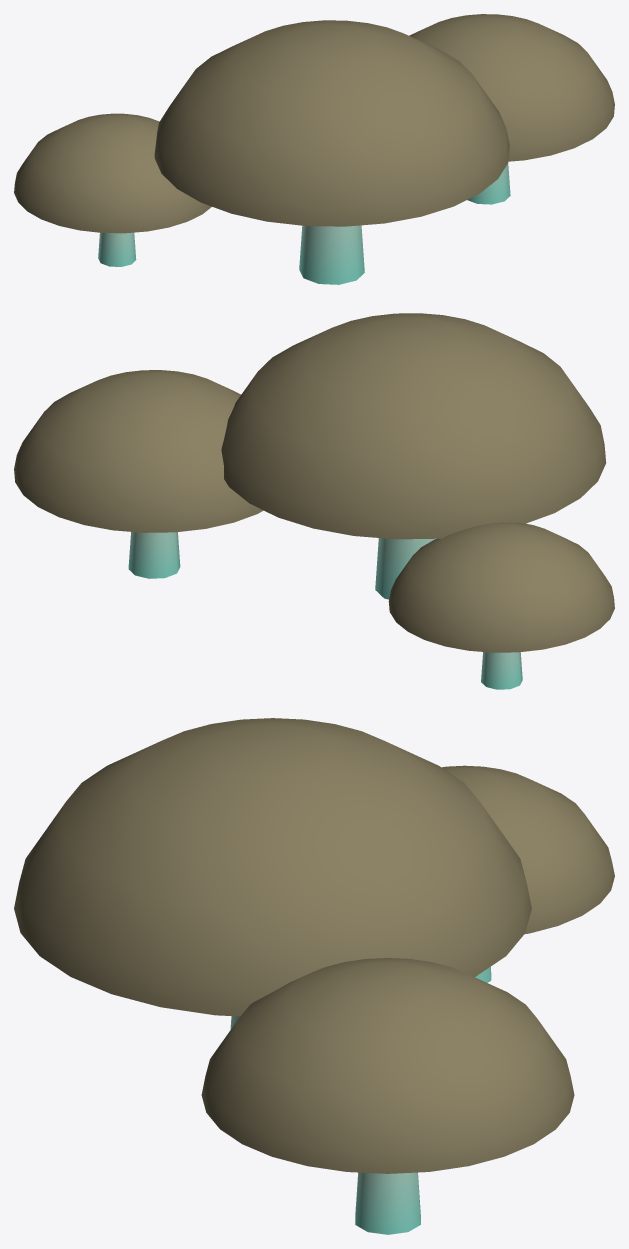
The model's file is ENV_Dimsum_Shiitake.fbx.
3 renders of one model, top to bottom at view 1: azimuth 30°, elevation 25°; view 2: azimuth 150°, elevation 25°; view 3: azimuth 270°, elevation 25°, orthographic. The views are drawn at different scales.
Visible parts, largest first — view 1: ENV_Dimsum_Shiitake; view 2: ENV_Dimsum_Shiitake; view 3: ENV_Dimsum_Shiitake.
Boxes of the visible parts, <box> form: ENV_Dimsum_Shiitake: <box>14,14,614,284</box>; ENV_Dimsum_Shiitake: <box>14,313,614,689</box>; ENV_Dimsum_Shiitake: <box>14,718,614,1234</box>.
Size of the model in its own units: 0.951 by 0.385 by 0.6266.
